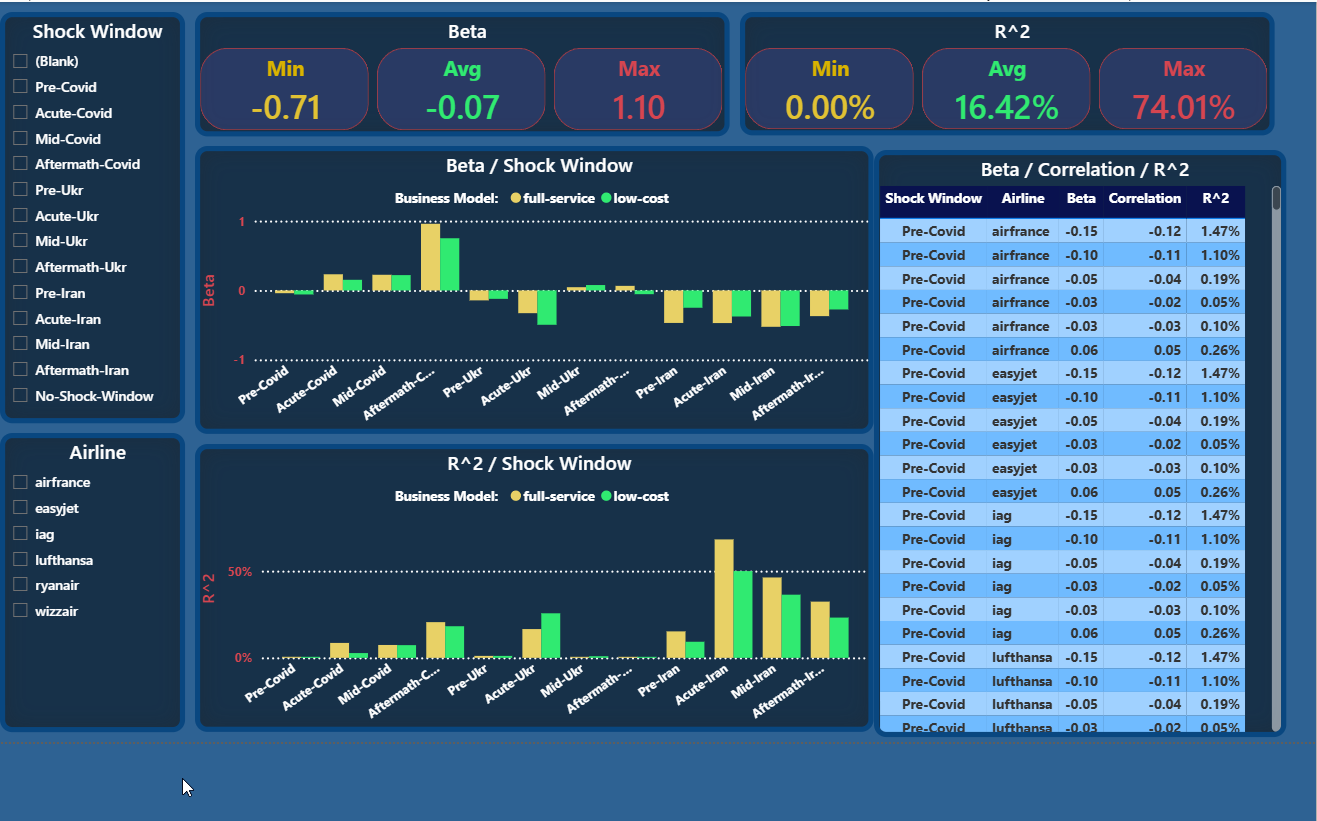

This screenshot's page, from the dashboard's own definition file:
{"tool":"powerbi","page":{"name":"Beta / Correlation / R^2","canvas":[1280,720],"ordinal":2},"visuals":[{"type":"slicer","title":"Shock Window","fields":{"Values":["periods_sorted_order.period_name"]},"box":[0,10,180,400],"z":0},{"type":"slicer","title":"Airline","fields":{"Values":["vw_airline_vol_30d.name"]},"box":[0,419.5,180.1,291],"z":1000},{"type":"cardVisual","title":"Beta","fields":{"Data":["Min(period_summary_airlines.beta)","Avg(period_summary_airlines.beta)1","Max(period_summary_airlines.beta)2"]},"box":[189.8,9.7,520,120.7],"z":2000},{"type":"cardVisual","title":"R^2","fields":{"Data":["Min(period_summary_airlines.r_squared)","Avg(period_summary_airlines.r_squared)1","Max(period_summary_airlines.r_squared)2"]},"box":[720,9.7,520,119.7],"z":3000},{"type":"clusteredColumnChart","title":"Beta / Shock Window","fields":{"Category":["periods_sorted_order.period_name"],"Y":["Avg(period_summary_airlines.beta)"],"Series":["period_summary_airlines.business_model"]},"box":[189.8,140,660,280.3],"z":4000},{"type":"clusteredColumnChart","title":"R^2 / Shock Window","fields":{"Category":["periods_sorted_order.period_name"],"Y":["Avg(period_summary_airlines.r_squared)"],"Series":["period_summary_airlines.business_model"]},"box":[189.8,430,660,280.3],"z":5000},{"type":"tableEx","title":"Beta / Correlation / R^2","fields":{"Values":["periods_sorted_order.period_name","vw_airline_vol_30d.name","period_summary_airlines.beta","period_summary_airlines.correlation","period_summary_airlines.r_squared"]},"box":[850.1,144,400.7,570.9],"z":6000}]}

Visuals, with their boxes on the page's 1280x720 design canvas (x1, y1, x2, y2). These are canvas units, not pixel positions in the 1317x821 screenshot, which may show the page scaled, cropped or inside an application window:
"Shock Window" slicer: l=0, t=10, r=180, b=410
"Airline" slicer: l=0, t=420, r=180, b=710
"Beta" cardVisual: l=190, t=10, r=710, b=130
"R^2" cardVisual: l=720, t=10, r=1240, b=129
"Beta / Shock Window" clusteredColumnChart: l=190, t=140, r=850, b=420
"R^2 / Shock Window" clusteredColumnChart: l=190, t=430, r=850, b=710
"Beta / Correlation / R^2" tableEx: l=850, t=144, r=1251, b=715
